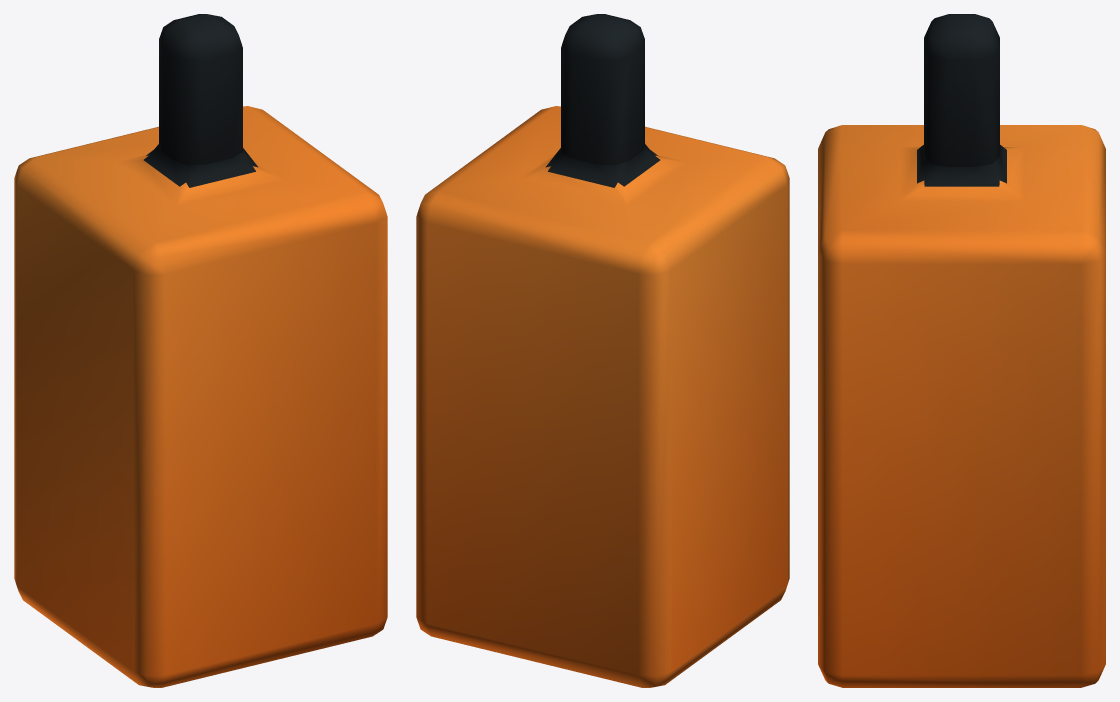
File: almasjack.fbx
3 renders of one model, left to right at view 1: azimuth 30°, elevation 25°; view 2: azimuth 150°, elevation 25°; view 3: azimuth 270°, elevation 25°, orthographic. The views are drawn at different scales.
Parts seen in each view (by area): view 1: jager; view 2: jager; view 3: jager.
Part boxes in pixels (x1,y1,x2,y2): jager: (14, 14, 387, 687); jager: (416, 14, 789, 687); jager: (818, 14, 1105, 687).
Size of the model in its own units: 0.0723 by 0.1637 by 0.0696.
1 material, 1 textured.
